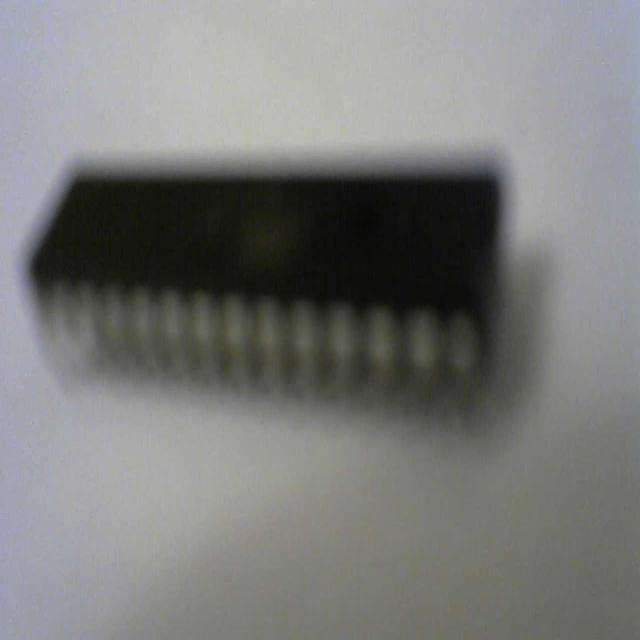atmega: (27, 150, 515, 431)
